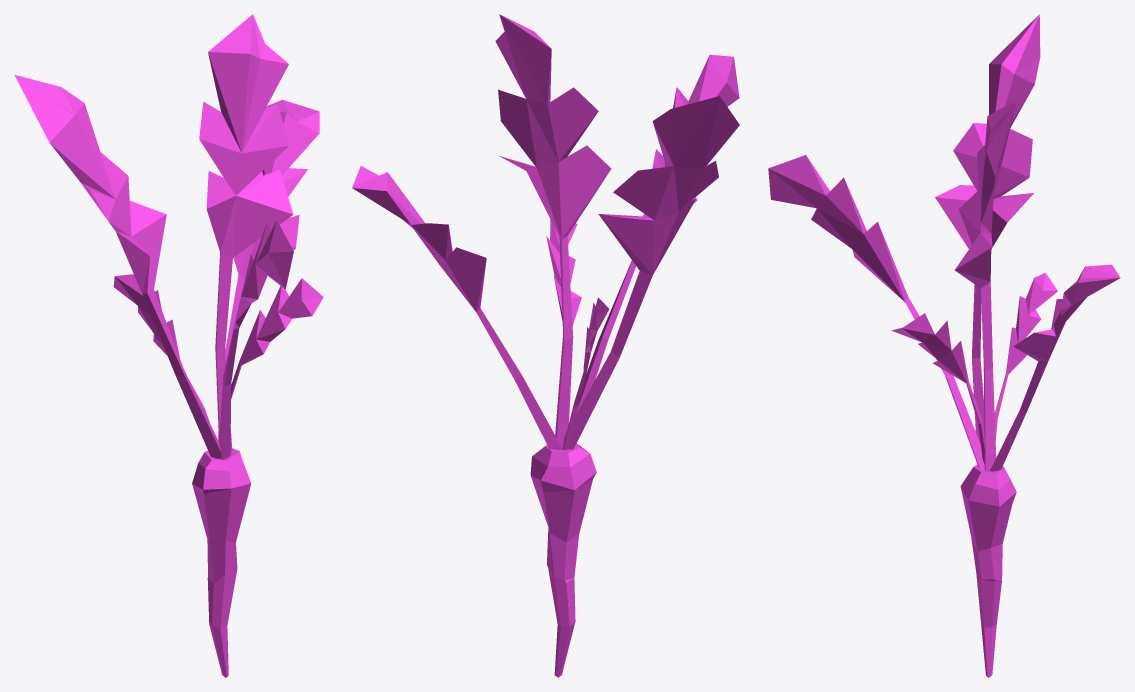
The model's file is SM_Parsnip_Plant_Young_Root.fbx.
3 renders of one model, left to right at view 1: azimuth 30°, elevation 25°; view 2: azimuth 150°, elevation 25°; view 3: azimuth 270°, elevation 25°, orthographic. The views are drawn at different scales.
Parts seen in each view (by area): view 1: SM_Parsnip_Plant_Young_Root; view 2: SM_Parsnip_Plant_Young_Root; view 3: SM_Parsnip_Plant_Young_Root.
Boxes of the visible parts, <box> form: SM_Parsnip_Plant_Young_Root: <box>14,14,323,677</box>; SM_Parsnip_Plant_Young_Root: <box>352,14,739,677</box>; SM_Parsnip_Plant_Young_Root: <box>768,14,1120,677</box>.
Bounding box in the file's own units: 0.3366 × 0.6337 × 0.3403.
